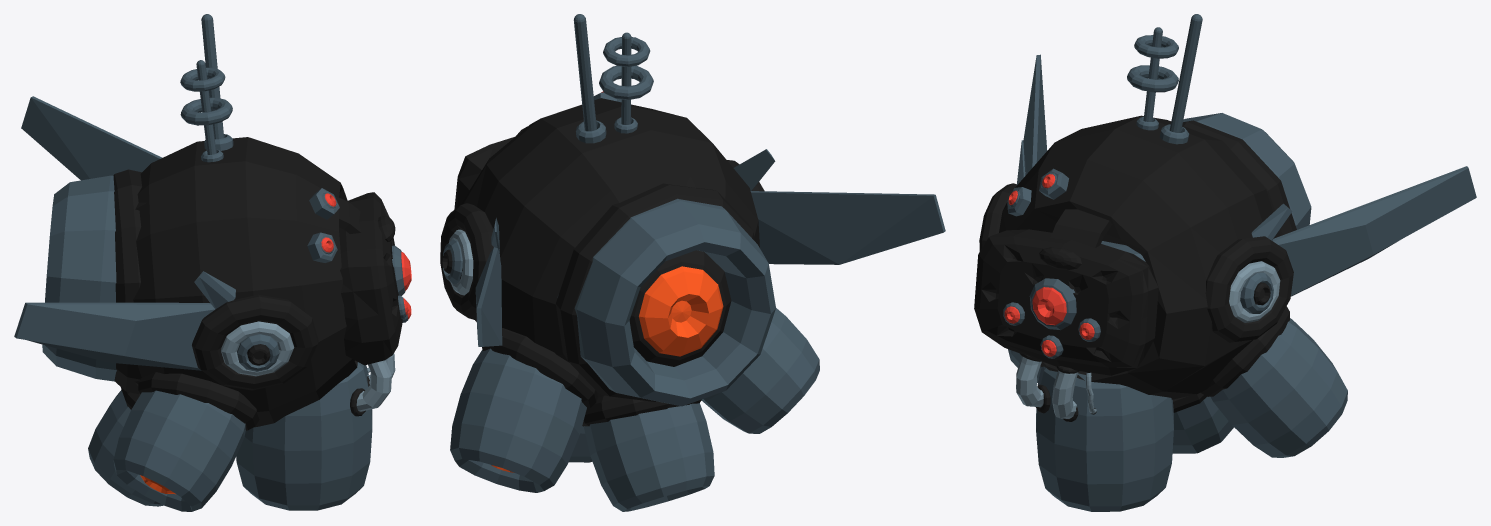
The model's file is drone.glb.
3 views of the same model, side by side, from view 1: azimuth 30°, elevation 25°; view 2: azimuth 150°, elevation 25°; view 3: azimuth 270°, elevation 25° (orthographic). The views are drawn at different scales.
Parts seen in each view (by area): view 1: group579868033, group950745974, group935379014, group340555124, group1900377273, group1629524082, group1880070904, group1574620923, group855398246, group1622754454, group1435881417, group1512876906 (+8 smaller); view 2: group579868033, group1900377273, group436029164, group340555124, group1512876906, group1384654718, group935379014, group855398246, group1435881417, group2073936651, group268984946, group1574620923 (+6 smaller); view 3: group579868033, group1629524082, group950745974, group436029164, group1574620923, group2073936651, group1900377273, group1435881417, group1512876906, group855398246, group1273343276, group606704065 (+9 smaller).
Boxes of the visible parts, box(x1,y1,x2,y2) form: group579868033: box(133, 137, 357, 427); group950745974: box(236, 362, 372, 510); group935379014: box(113, 390, 245, 511); group340555124: box(14, 302, 214, 370); group1900377273: box(42, 175, 116, 381); group1629524082: box(135, 192, 402, 365); group1880070904: box(192, 294, 318, 390); group1574620923: box(21, 96, 162, 180); group855398246: box(113, 169, 141, 394); group1622754454: box(138, 372, 259, 430); group1435881417: box(180, 60, 232, 162); group1512876906: box(88, 390, 163, 506); group579868033: box(461, 98, 759, 397); group1900377273: box(557, 198, 775, 406); group436029164: box(450, 348, 586, 492); group340555124: box(750, 191, 945, 264); group1512876906: box(583, 403, 714, 511); group1384654718: box(629, 250, 731, 366); group935379014: box(701, 308, 819, 433); group855398246: box(555, 183, 754, 401); group1435881417: box(599, 32, 653, 133); group2073936651: box(440, 203, 500, 319); group268984946: box(482, 328, 597, 408); group1574620923: box(475, 247, 502, 346); group579868033: box(999, 115, 1280, 399); group1629524082: box(974, 209, 1158, 375); group950745974: box(1036, 366, 1173, 511); group436029164: box(1210, 318, 1347, 457); group1574620923: box(1272, 166, 1476, 296); group2073936651: box(1205, 236, 1293, 342); group1900377273: box(1183, 113, 1311, 229); group1435881417: box(1127, 27, 1178, 130); group1512876906: box(1172, 396, 1233, 453); group855398246: box(1182, 120, 1296, 235); group1273343276: box(1029, 278, 1076, 330); group606704065: box(1160, 14, 1202, 144).
Bounding box in the file's own units: 2.68 × 2.83 × 2.77.
